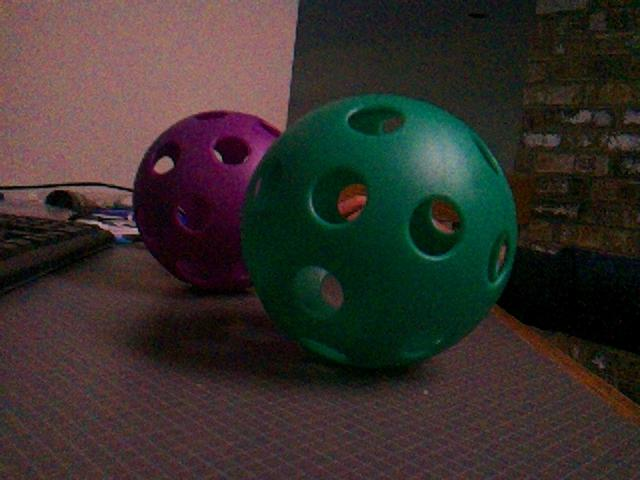Green: (238, 90, 520, 371)
Purple: (130, 107, 282, 294)
